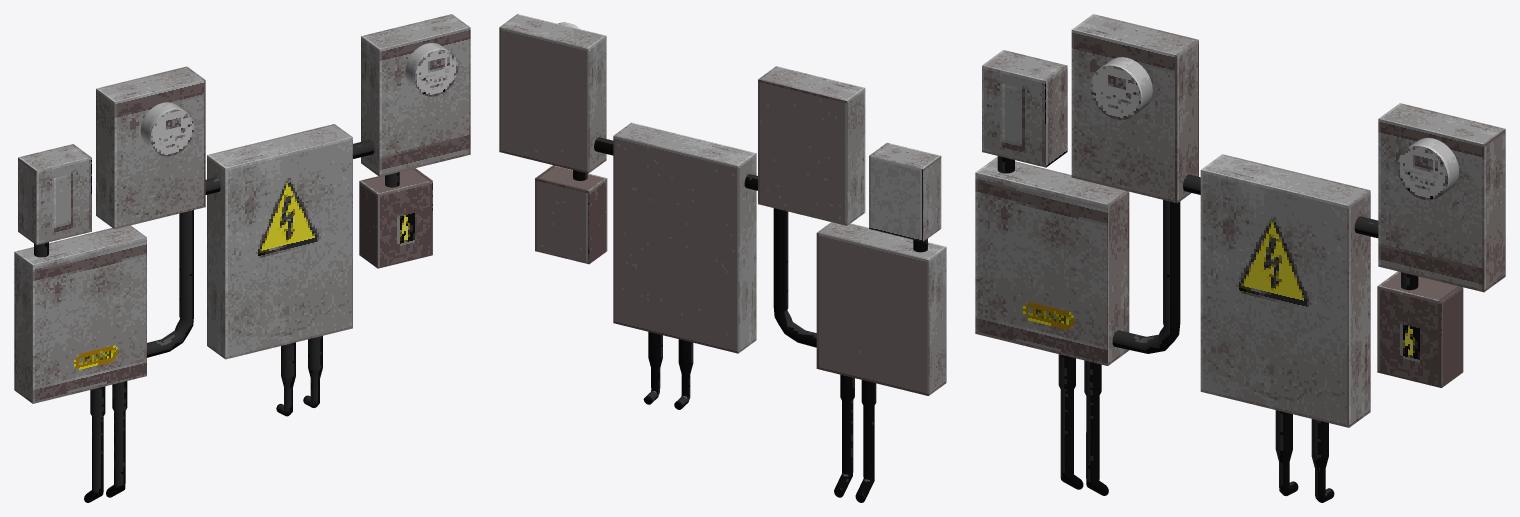
The model's file is elec_meter.glb.
3 views of the same model, side by side, from view 1: azimuth 30°, elevation 25°; view 2: azimuth 150°, elevation 25°; view 3: azimuth 330°, elevation 25° (orthographic). The views are drawn at different scales.
Visible parts, largest first — view 1: mesh; view 2: mesh; view 3: mesh.
Part boxes in pixels (box(x1,y1,x2,y2)): mesh: box(14, 14, 470, 502); mesh: box(499, 14, 946, 502); mesh: box(975, 14, 1505, 502).
Size of the model in its own units: 0.6714 by 0.6 by 0.0766.
Materials: 1 (1 with a texture image).
